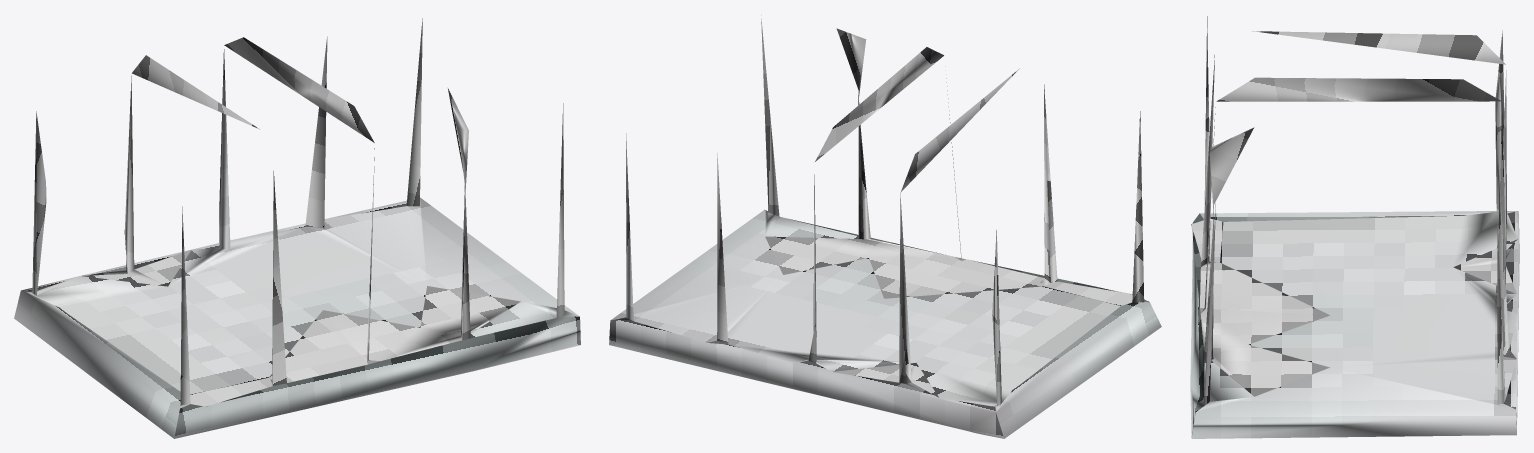
The model's file is Poppin_File_Sorter_White-low.glb.
3 renders of one model, left to right at view 1: azimuth 30°, elevation 25°; view 2: azimuth 150°, elevation 25°; view 3: azimuth 270°, elevation 25°, orthographic. The views are drawn at different scales.
Visible parts, largest first — view 1: Poppin_File_Sorter_White; view 2: Poppin_File_Sorter_White; view 3: Poppin_File_Sorter_White.
Boxes of the visible parts, x1,y1,x2,y2 form: Poppin_File_Sorter_White: [14, 18, 580, 438]; Poppin_File_Sorter_White: [609, 15, 1161, 438]; Poppin_File_Sorter_White: [1190, 16, 1519, 438].
Size of the model in its own units: 0.2492 by 0.1542 by 0.1733.
1 material, 1 textured.
